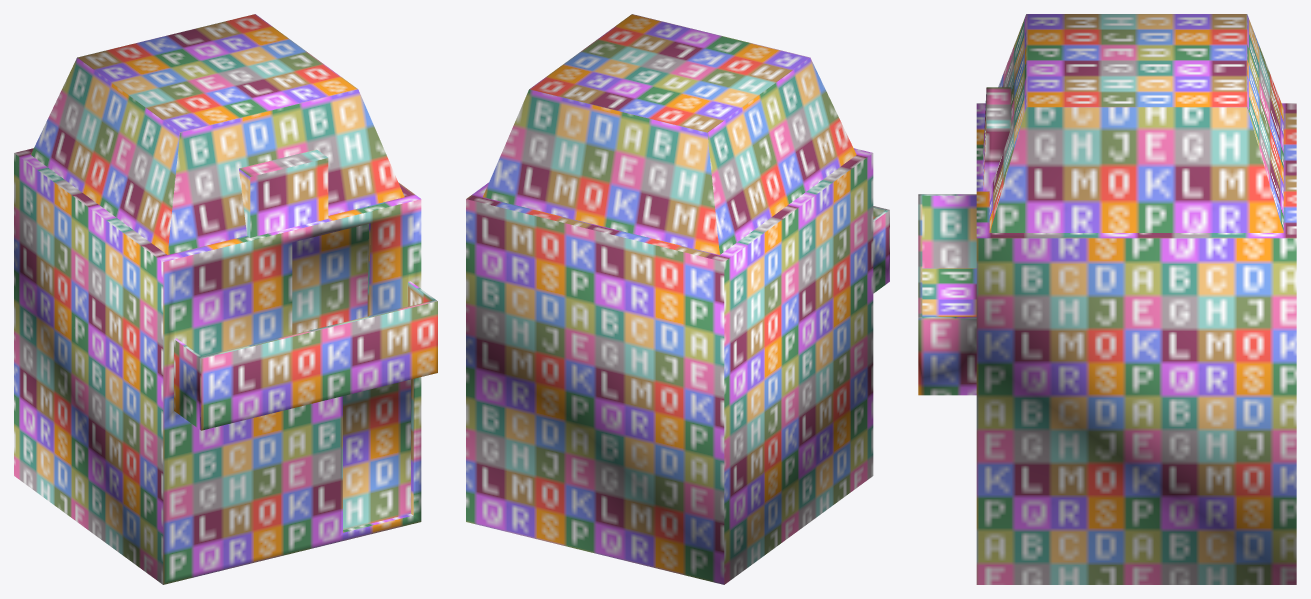
The model's file is building_08.obj.
3 renders of one model, left to right at view 1: azimuth 30°, elevation 25°; view 2: azimuth 150°, elevation 25°; view 3: azimuth 270°, elevation 25°, orthographic. The views are drawn at different scales.
Parts seen in each view (by area): view 1: Cube2; view 2: Cube2; view 3: Cube2.
Part boxes in pixels (x1,y1,x2,y2): Cube2: (14, 14, 437, 584); Cube2: (466, 14, 889, 584); Cube2: (918, 14, 1296, 584).
Bounding box in the file's own units: 273 × 430 × 323.
1 material, 1 textured.
